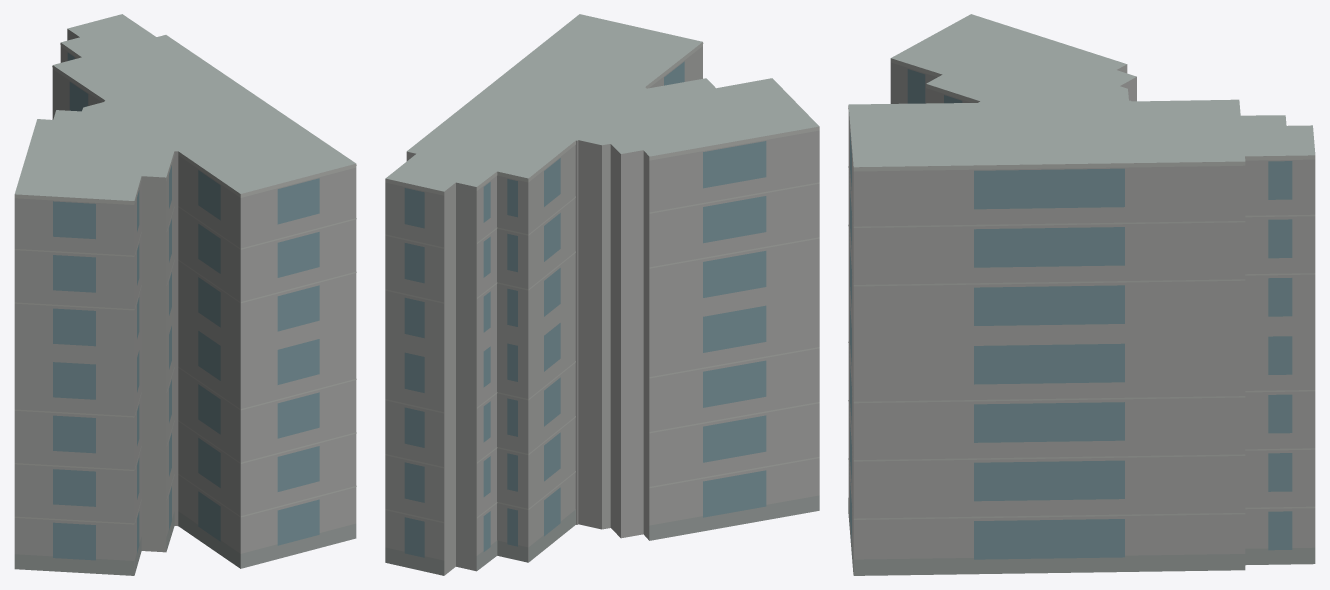
The model's file is survey-upis-32632423.glb.
The picture shows the model from 3 angles, left to right: view 1: azimuth 30°, elevation 25°; view 2: azimuth 150°, elevation 25°; view 3: azimuth 270°, elevation 25°; orthographic projection. The views are drawn at different scales.
Visible parts, largest first — view 1: survey-upis-32632423.tmp; view 2: survey-upis-32632423.tmp; view 3: survey-upis-32632423.tmp.
Boxes of the visible parts, x1,y1,x2,y2 form: survey-upis-32632423.tmp: [14, 14, 356, 575]; survey-upis-32632423.tmp: [385, 14, 819, 575]; survey-upis-32632423.tmp: [848, 14, 1315, 575].
Bounding box in the file's own units: 18.76 × 23.3 × 24.15.
